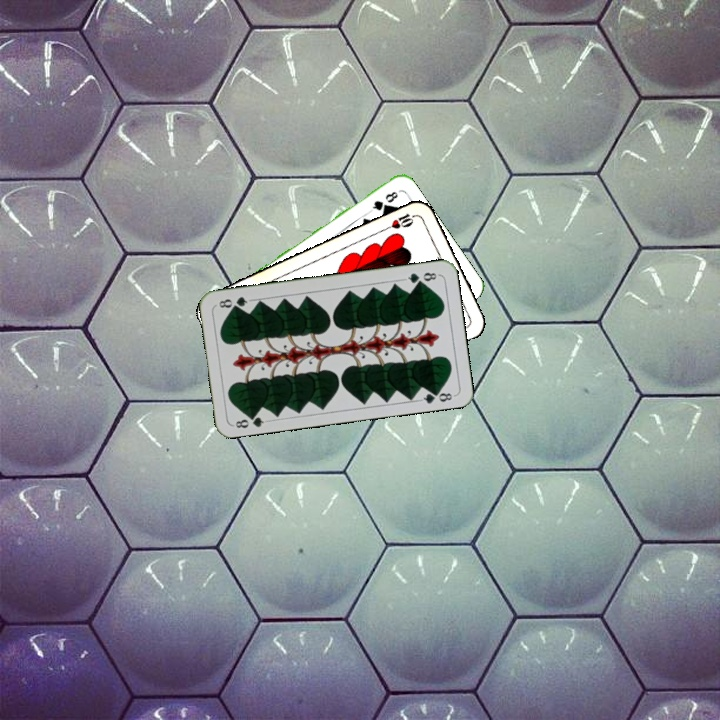G8: (366, 187, 401, 214), (232, 410, 270, 431), (401, 268, 441, 286)
H10: (381, 209, 419, 233)
